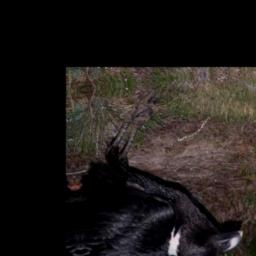Crow: (67, 78, 246, 256)
